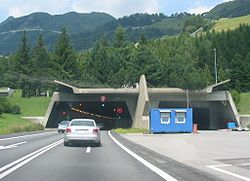bridge: (43, 76, 242, 131)
